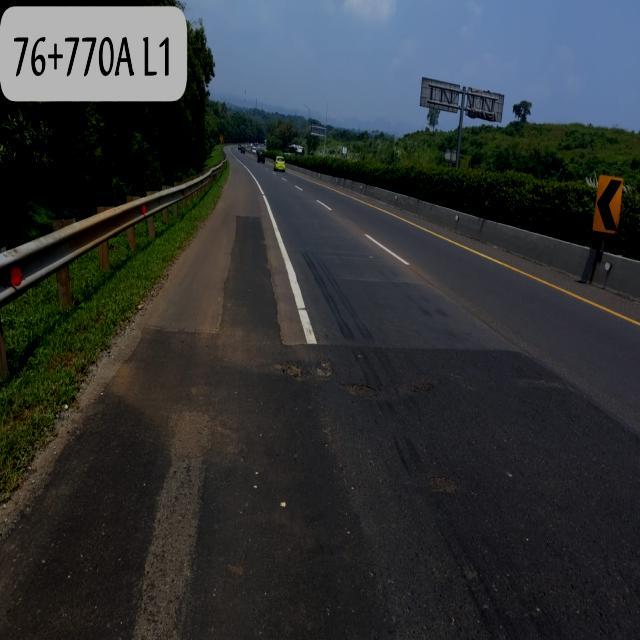Buraco: (267, 359, 314, 380), (424, 473, 461, 499), (333, 382, 380, 401), (395, 379, 437, 395), (313, 357, 336, 379)
